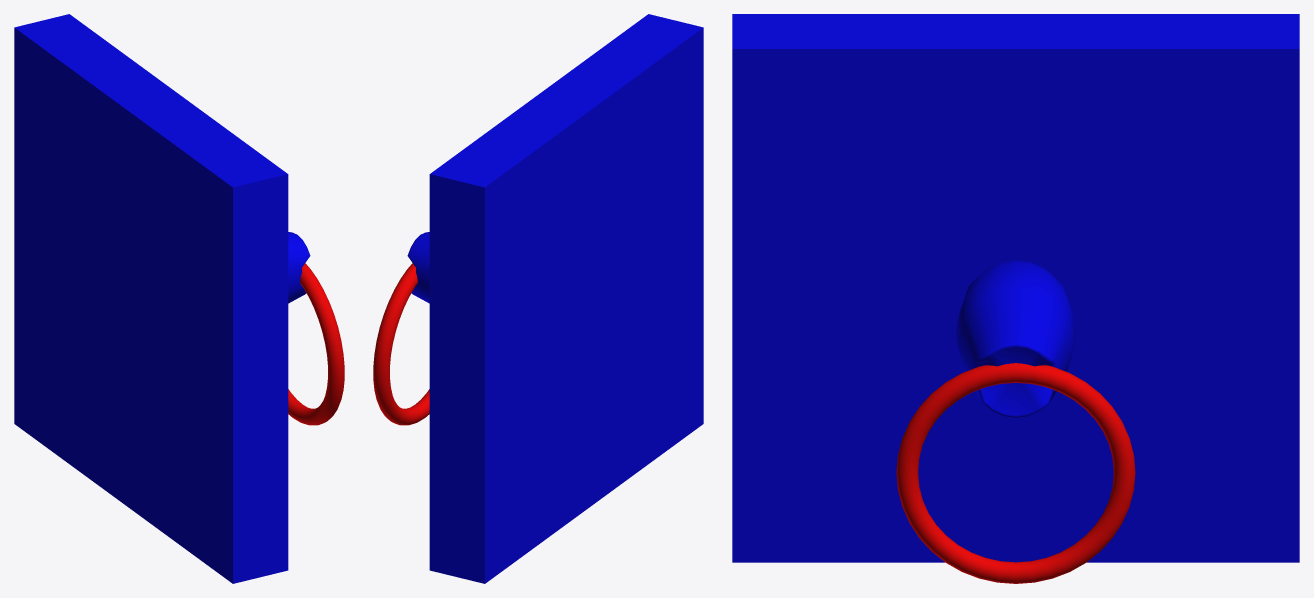
File: porte_torche_01.fbx
3 views of the same model, side by side, from view 1: azimuth 30°, elevation 25°; view 2: azimuth 150°, elevation 25°; view 3: azimuth 270°, elevation 25° (orthographic). The views are drawn at different scales.
Parts seen in each view (by area): view 1: porte_torche1, pTorus; view 2: porte_torche1, pTorus; view 3: porte_torche1, pTorus.
Part boxes in pixels (bbox=[...]): porte_torche1: bbox=[14, 14, 310, 583]; pTorus: bbox=[288, 263, 344, 425]; porte_torche1: bbox=[407, 14, 703, 583]; pTorus: bbox=[373, 263, 429, 425]; porte_torche1: bbox=[732, 14, 1299, 562]; pTorus: bbox=[896, 363, 1135, 583].
Bounding box in the file's own units: 0.0834 × 0.174 × 0.174.
